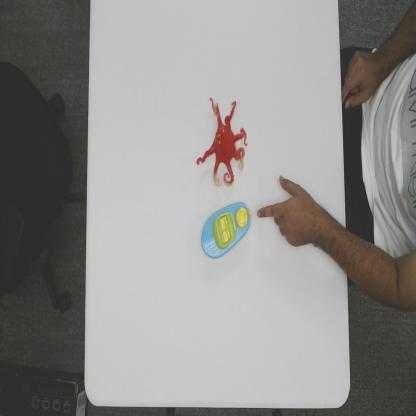Boat: (200, 200, 253, 260)
Hand: (256, 174, 330, 247)
Octopus: (196, 96, 248, 188)
